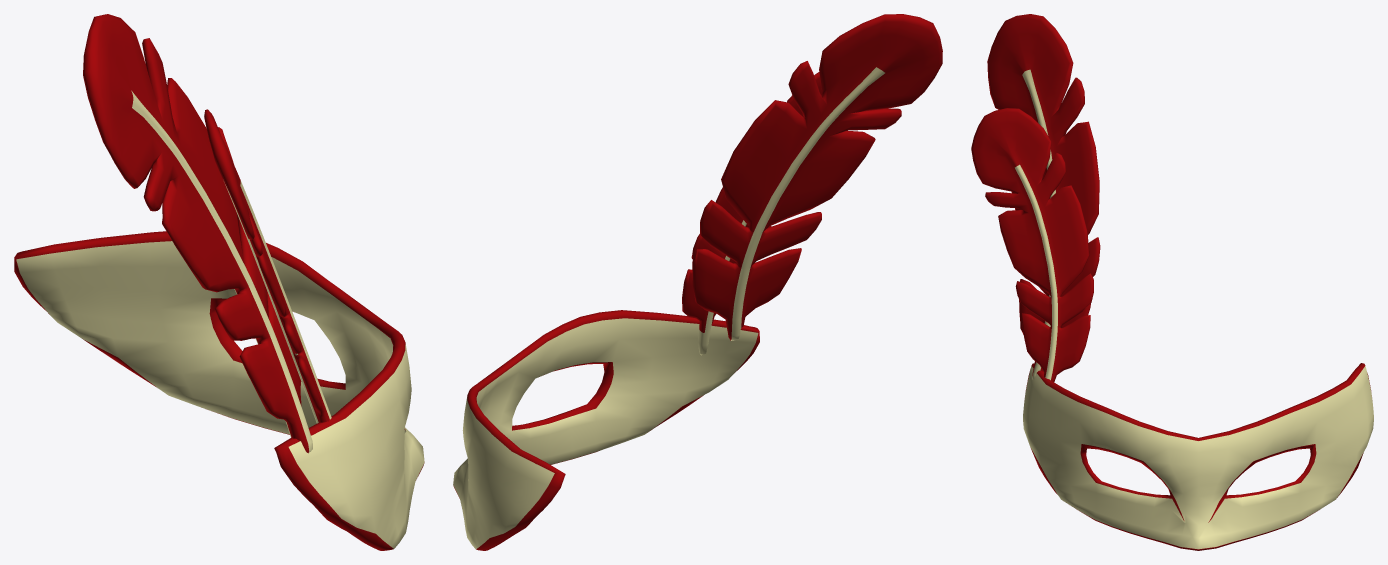
File: carn-asset.glb
3 views of the same model, side by side, from view 1: azimuth 30°, elevation 25°; view 2: azimuth 150°, elevation 25°; view 3: azimuth 270°, elevation 25° (orthographic). The views are drawn at different scales.
Parts seen in each view (by area): view 1: Sphere, Cylinder.001, Cylinder.002; view 2: Cylinder.001, Sphere, Cylinder.002; view 3: Sphere, Cylinder.002, Cylinder.001.
Part boxes in pixels (x1,y1,x2,y2): Sphere: [14, 231, 424, 550]; Cylinder.001: [83, 14, 312, 453]; Cylinder.002: [204, 109, 331, 423]; Cylinder.001: [692, 14, 942, 340]; Sphere: [453, 310, 759, 550]; Cylinder.002: [682, 72, 822, 355]; Sphere: [1023, 363, 1373, 550]; Cylinder.002: [971, 108, 1093, 382]; Cylinder.001: [987, 14, 1100, 379].
Size of the model in its own units: 1.92 by 2.4 by 2.18.
